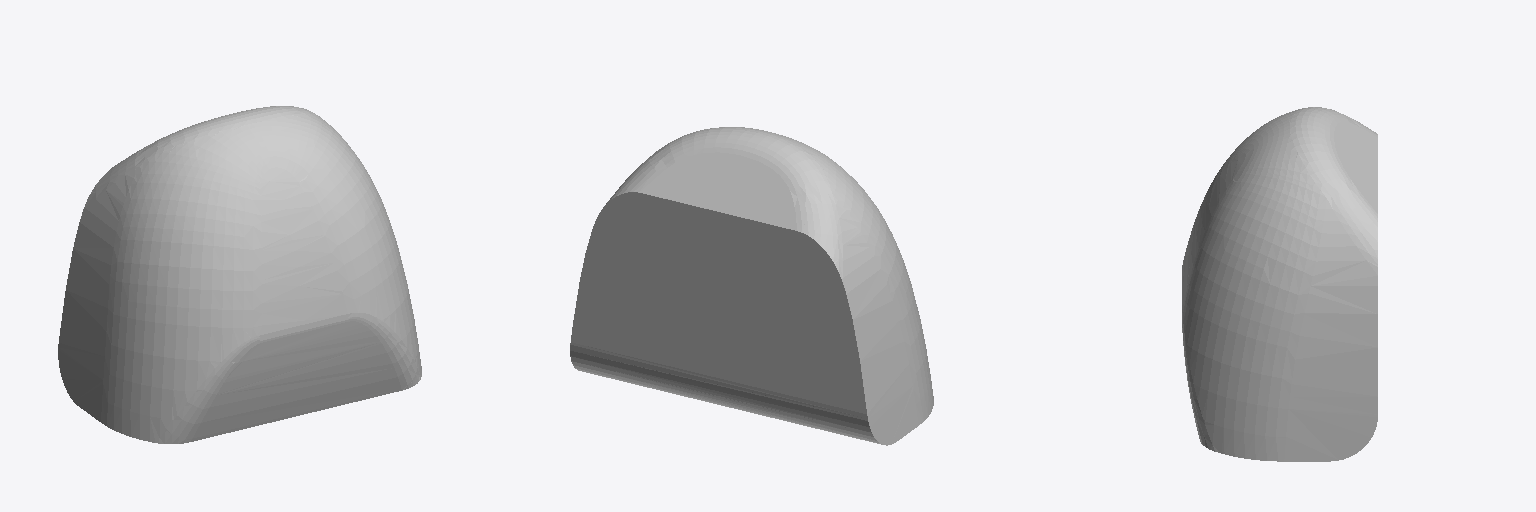
File: rl_dg_1_tip_c_mesh.obj
3 views of the same model, side by side, from view 1: azimuth 30°, elevation 25°; view 2: azimuth 150°, elevation 25°; view 3: azimuth 270°, elevation 25° (orthographic).
Size of the model in its own units: 0.0215 by 0.0176 by 0.012.